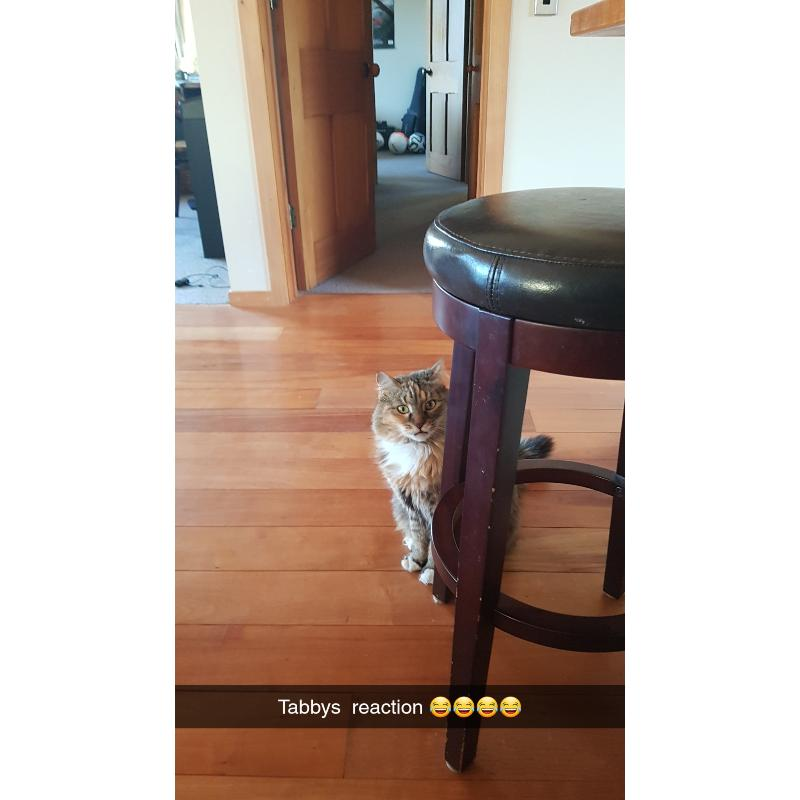yellow: (372, 360, 451, 582)
